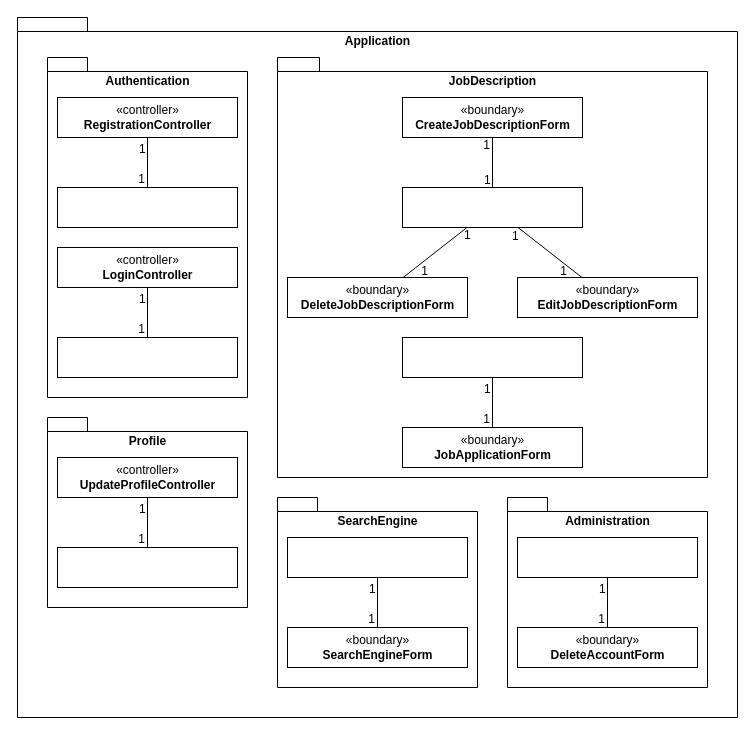
Image size: 755x735. Some labels were removed from this diagram. Here are the shapes that lost their labels. From the top down, the box of each, then its label:
(56, 186, 238, 228): «boundary» RegistrationForm
(402, 186, 582, 228): «controller» JobDescriptionController
(56, 336, 238, 378): «boundary» LoginForm
(402, 336, 582, 378): «controller» JobApplicationController
(56, 546, 238, 588): «boundary» UpdateProfileForm
(286, 536, 468, 578): «controller» SearchEngineController
(516, 536, 698, 578): «controller» DeletionController
